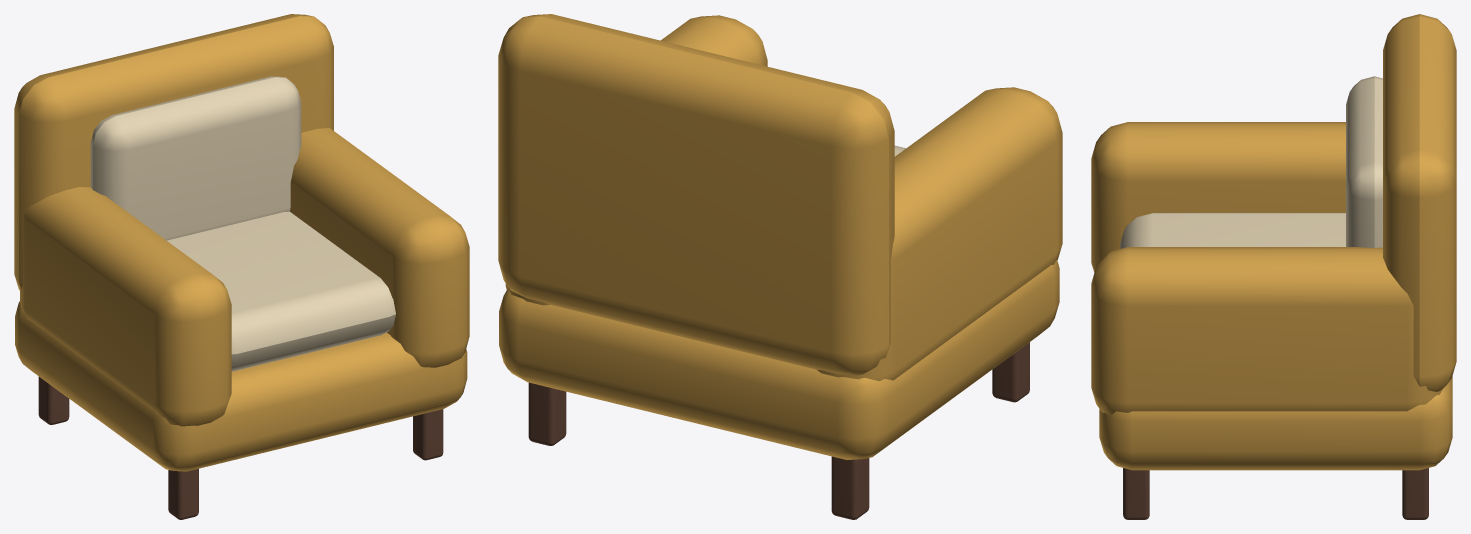
The model's file is armchair.glb.
3 views of the same model, side by side, from view 1: azimuth 30°, elevation 25°; view 2: azimuth 150°, elevation 25°; view 3: azimuth 270°, elevation 25° (orthographic). The views are drawn at different scales.
Parts seen in each view (by area): view 1: Rounded arm, Armchair base, Armchair back, Back cushion, Rounded arm.001, Seat cushion, Tapered leg.001, Tapered leg.003, Tapered leg; view 2: Armchair back, Armchair base, Rounded arm, Rounded arm.001, Tapered leg, Tapered leg.002, Tapered leg.001; view 3: Rounded arm.001, Rounded arm, Armchair back, Armchair base, Seat cushion, Back cushion, Tapered leg.002, Tapered leg.003.
Boxes of the visible parts, box(x1,y1,x2,y2) form: Rounded arm: box(20, 187, 231, 426); Armchair base: box(15, 301, 467, 471); Armchair back: box(14, 14, 333, 290); Back cushion: box(90, 76, 301, 240); Rounded arm.001: box(290, 128, 469, 367); Seat cushion: box(167, 211, 395, 371); Tapered leg.001: box(168, 468, 198, 519); Tapered leg.003: box(413, 409, 443, 460); Tapered leg: box(38, 376, 69, 424); Armchair back: box(498, 14, 894, 375); Armchair base: box(499, 259, 1059, 459); Rounded arm: box(817, 87, 1062, 381); Rounded arm.001: box(505, 15, 767, 305); Tapered leg: box(831, 456, 869, 519); Tapered leg.002: box(528, 382, 566, 445); Tapered leg.001: box(992, 342, 1029, 402); Rounded arm.001: box(1091, 247, 1444, 415); Rounded arm: box(1091, 122, 1345, 272); Armchair back: box(1383, 14, 1456, 391); Armchair base: box(1099, 376, 1452, 470); Seat cushion: box(1120, 213, 1345, 248); Back cushion: box(1346, 76, 1382, 247); Tapered leg.002: box(1402, 468, 1428, 519); Tapered leg.003: box(1123, 468, 1149, 519).
Bounding box in the file's own units: 0.94 × 0.99 × 0.89.
